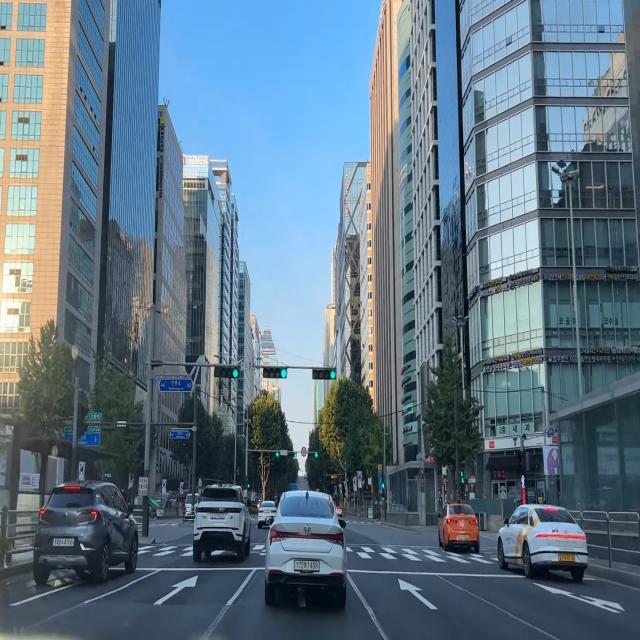Green Light: (232, 367, 238, 378), (280, 368, 286, 378)
